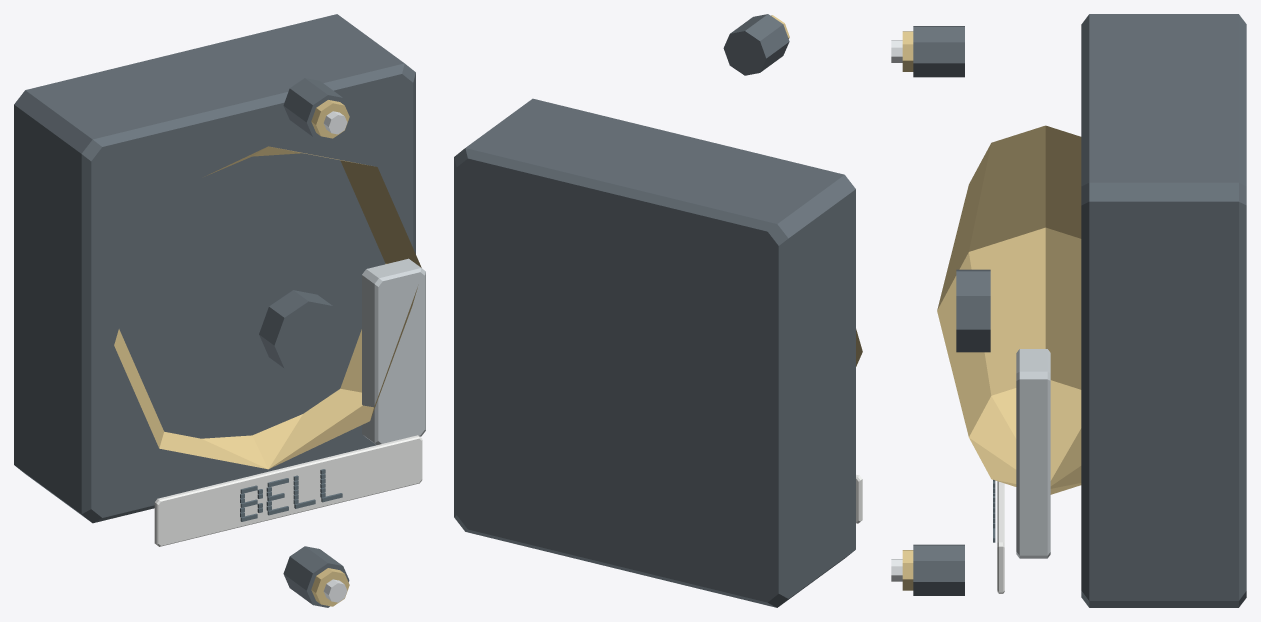
File: bell.glb
3 views of the same model, side by side, from view 1: azimuth 30°, elevation 25°; view 2: azimuth 150°, elevation 25°; view 3: azimuth 270°, elevation 25° (orthographic). The views are drawn at different scales.
Visible parts, largest first — view 1: bell-board; view 2: bell-board; view 3: bell-board.
Part boxes in pixels (x1,y1,x2,y2): bell-board: [14, 14, 425, 607]; bell-board: [454, 14, 862, 607]; bell-board: [891, 14, 1246, 607].
Bounding box in the file's own units: 1.5 × 2.19 × 1.24.
